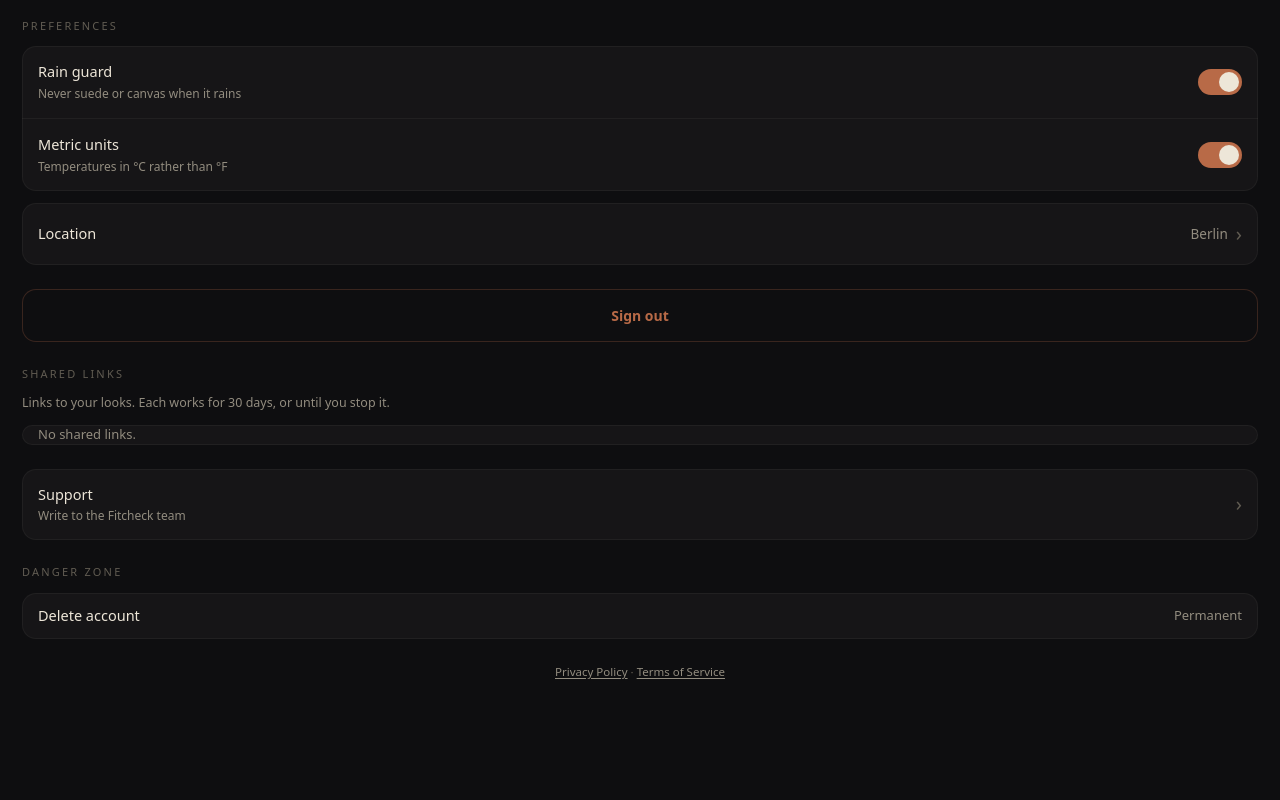
Test case: the danger row opens the account deletion confirmation
(page scrolled)
Step 1. Click the button "Delete account Permanent" → [89, 615], box top-left (22, 593), bottom-right (1258, 639)
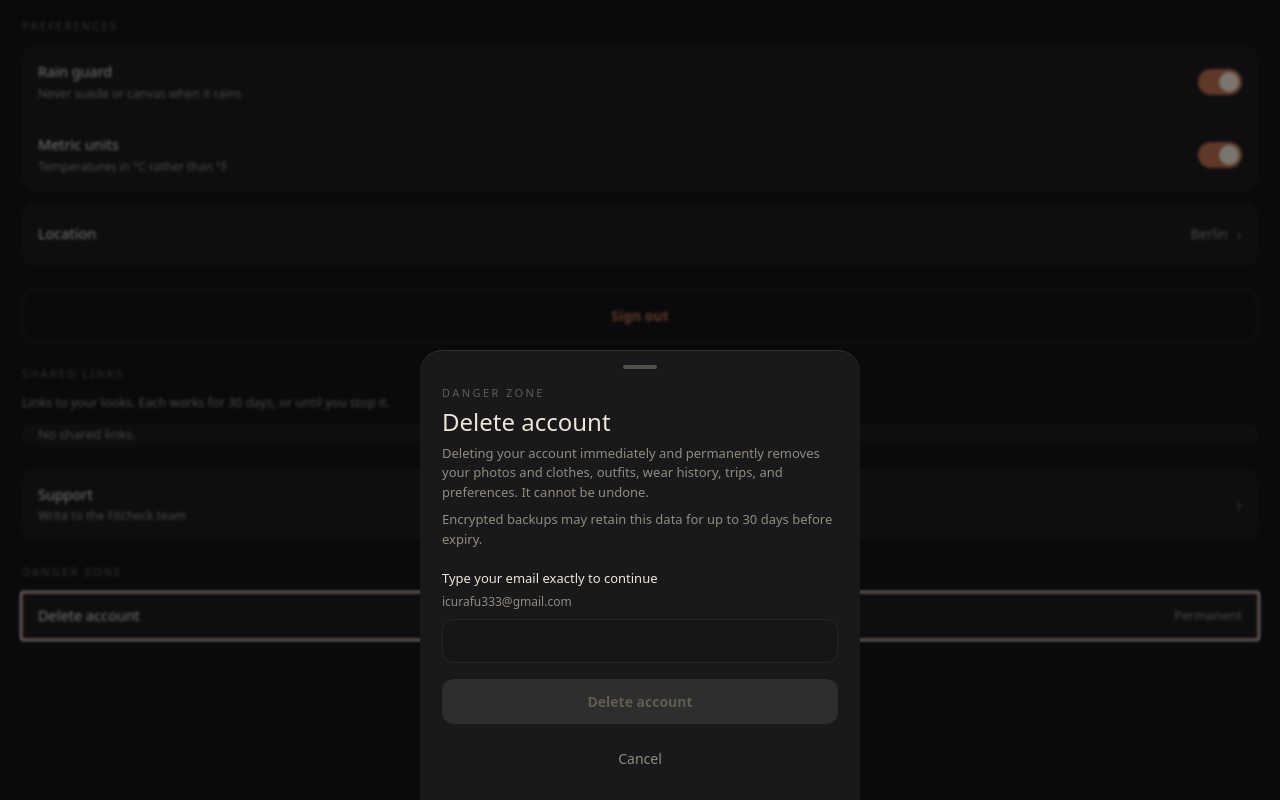
Result: the dialog "Delete account" is shown at top-left (420, 350), bottom-right (860, 799)
